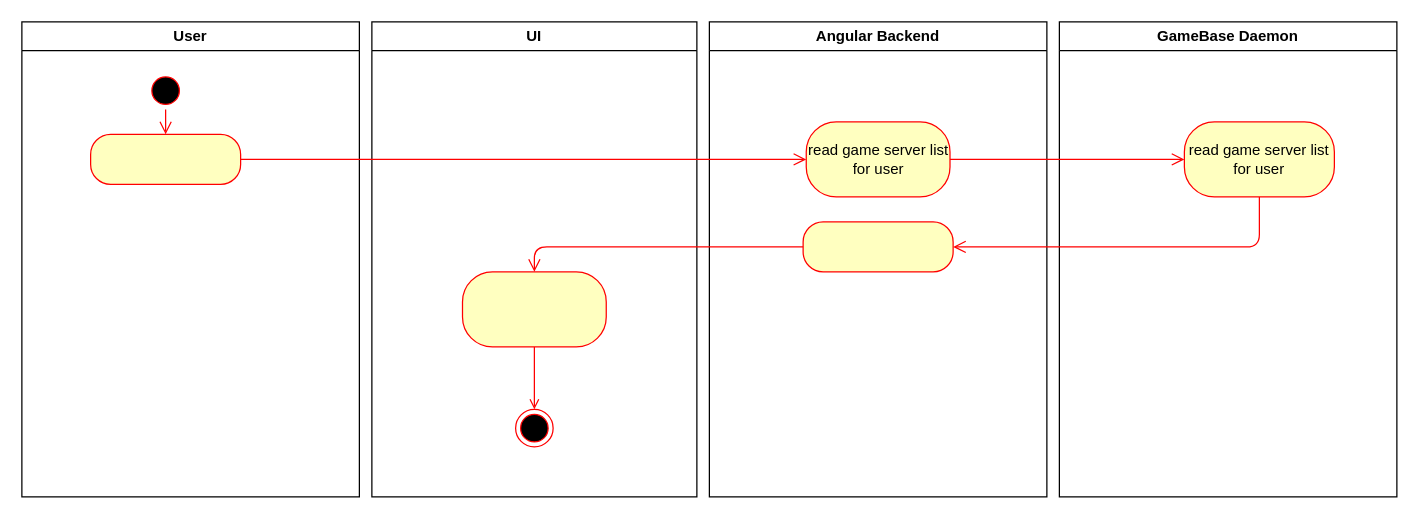
The diagram is 1419 pixels wide and 519 high, and some of its shapes have lost their labels. The centre of each missing label's shape, as x and y in pixels:
"relay" belongs at (877,246).
"shows <<User Profile>> Form" belongs at (533,309).
"User is on main page" belongs at (165,158).
